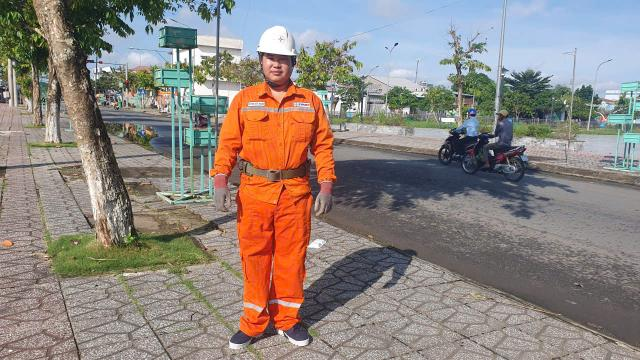gloves: (204, 170, 236, 215), (306, 178, 342, 218)
harness: (235, 157, 318, 183)
helmet: (256, 23, 301, 59)
shoes: (221, 314, 276, 356), (270, 304, 318, 347)
